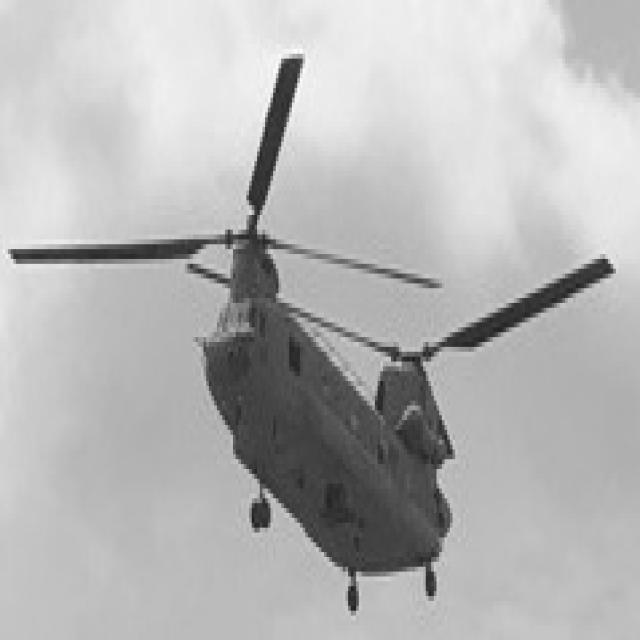Helicopter: (11, 57, 614, 610)
